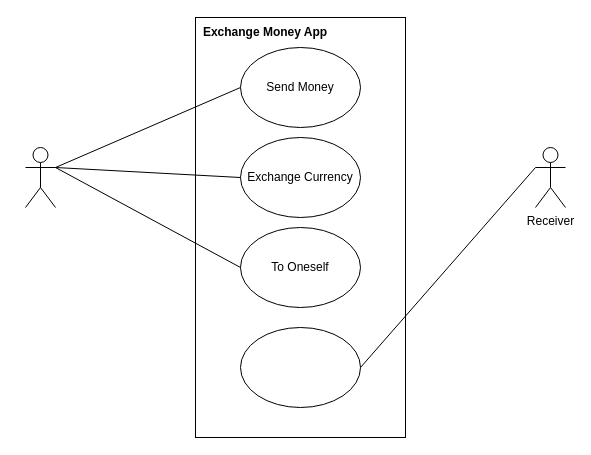
Some shapes in this 591 by 455 pixel diagram are drawn without their labels. The shapes that lost their labels are listed below. From the top down, each one's centre as x and y in pixels, then its label:
At point (40, 177): "User (Sender)".
At point (300, 367): "Receive Money".
